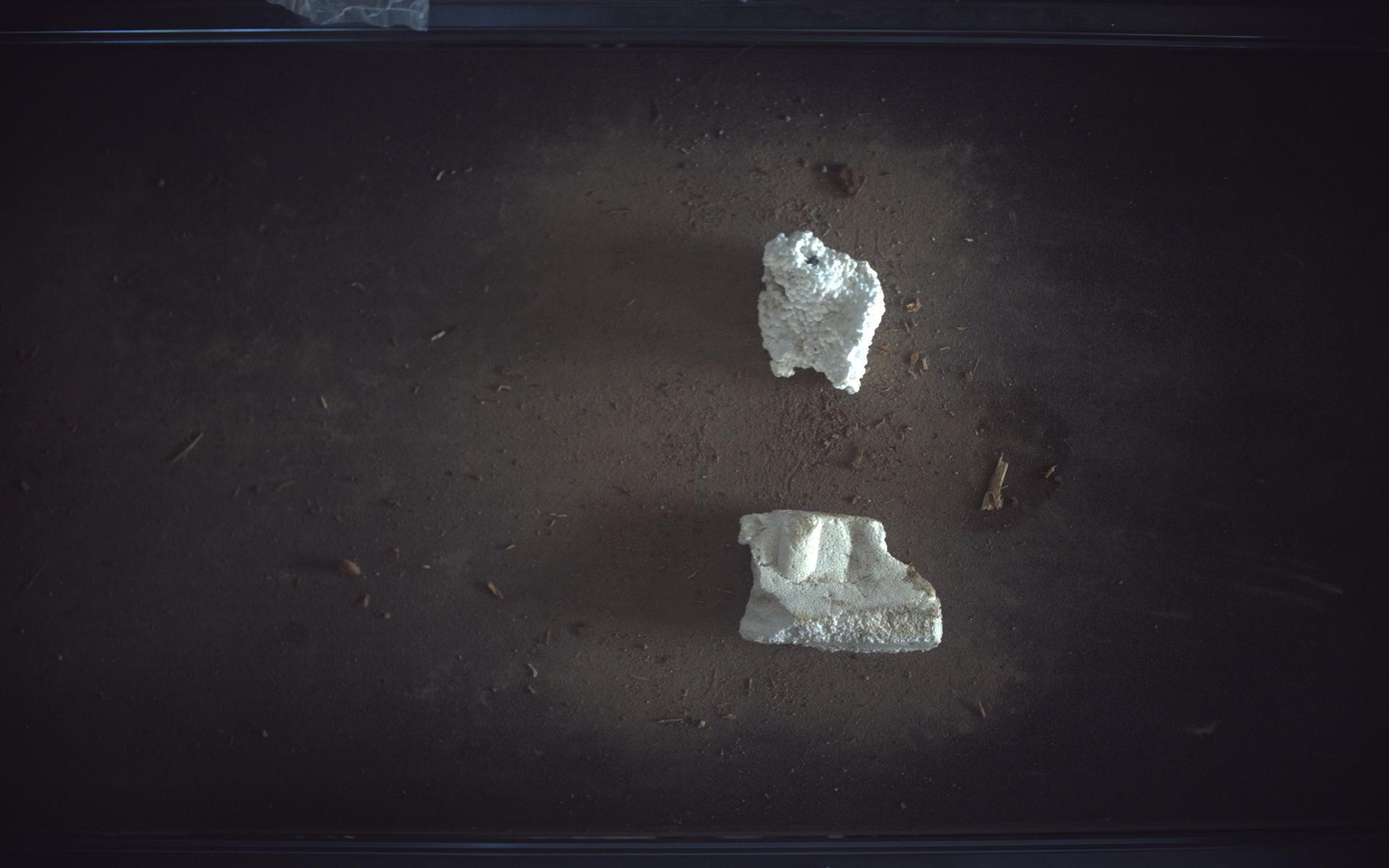foam: (740, 510, 944, 654), (759, 231, 886, 393)
